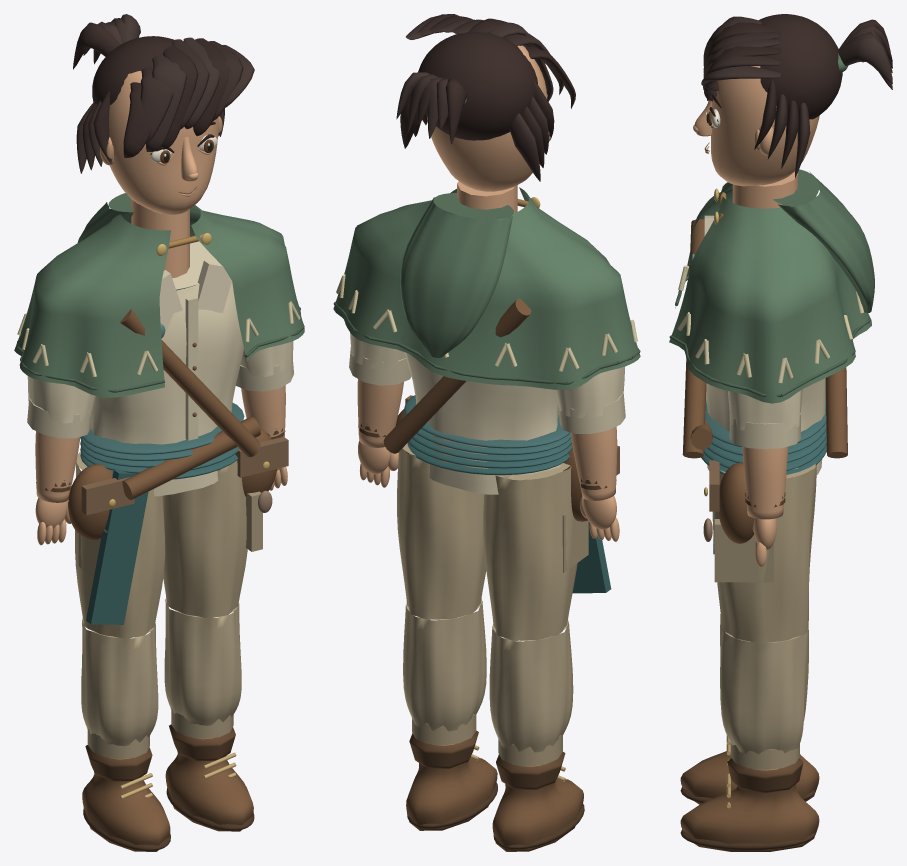
The model's file is willow_scout.glb.
The picture shows the model from 3 angles, left to right: view 1: azimuth 30°, elevation 25°; view 2: azimuth 150°, elevation 25°; view 3: azimuth 270°, elevation 25°; orthographic projection. The views are drawn at different scales.
Visible parts, largest first — view 1: _MeshInstance3D_144, _MeshInstance3D_25, _MeshInstance3D_14, _MeshInstance3D_15, _MeshInstance3D_4, _MeshInstance3D_94, _MeshInstance3D_3, _MeshInstance3D_83, _MeshInstance3D_18, _MeshInstance3D_7, _MeshInstance3D_91, _MeshInstance3D_119 (+39 smaller); view 2: _MeshInstance3D_144, _MeshInstance3D_3, FoldedHood, _MeshInstance3D_14, _MeshInstance3D_4, _MeshInstance3D_15, _MeshInstance3D_25, _MeshInstance3D_119, _MeshInstance3D_7, _MeshInstance3D_18, _MeshInstance3D_94, _MeshInstance3D_92 (+25 smaller); view 3: _MeshInstance3D_144, _MeshInstance3D_15, _MeshInstance3D_14, _MeshInstance3D_18, _MeshInstance3D_94, _MeshInstance3D_119, FoldedHood, _MeshInstance3D_47, _MeshInstance3D_7, _MeshInstance3D_24, _MeshInstance3D_88, _MeshInstance3D_45 (+26 smaller).
Part boxes in pixels (x1,y1,x2,y2): _MeshInstance3D_144: (14, 205, 304, 397); _MeshInstance3D_25: (91, 241, 243, 496); _MeshInstance3D_14: (163, 460, 247, 618); _MeshInstance3D_15: (164, 597, 241, 725); _MeshInstance3D_4: (81, 618, 158, 746); _MeshInstance3D_94: (109, 71, 218, 214); _MeshInstance3D_3: (75, 451, 165, 638); _MeshInstance3D_83: (86, 470, 148, 624); _MeshInstance3D_18: (165, 752, 253, 831); _MeshInstance3D_7: (82, 772, 170, 851); _MeshInstance3D_91: (120, 309, 260, 457); _MeshInstance3D_119: (92, 36, 173, 104); _MeshInstance3D_144: (333, 187, 640, 389); _MeshInstance3D_3: (483, 463, 577, 640); FoldedHood: (400, 193, 513, 357); _MeshInstance3D_14: (397, 443, 486, 619); _MeshInstance3D_4: (489, 619, 573, 752); _MeshInstance3D_15: (403, 599, 486, 731); _MeshInstance3D_25: (405, 352, 562, 494); _MeshInstance3D_119: (418, 32, 537, 140); _MeshInstance3D_7: (492, 779, 583, 851); _MeshInstance3D_18: (406, 758, 497, 830); _MeshInstance3D_94: (427, 45, 547, 191); _MeshInstance3D_92: (383, 298, 531, 453); _MeshInstance3D_144: (669, 182, 871, 403); _MeshInstance3D_15: (720, 625, 808, 754); _MeshInstance3D_14: (712, 464, 816, 643); _MeshInstance3D_18: (680, 784, 819, 851); _MeshInstance3D_94: (711, 66, 819, 186); _MeshInstance3D_119: (759, 14, 842, 119); FoldedHood: (773, 169, 874, 312); _MeshInstance3D_47: (742, 446, 788, 519); _MeshInstance3D_7: (680, 751, 819, 804); _MeshInstance3D_24: (714, 519, 773, 582); _MeshInstance3D_88: (718, 463, 754, 543); _MeshInstance3D_45: (728, 389, 802, 430).
Size of the model in its own units: 0.8003 by 2.08 by 0.5282.
